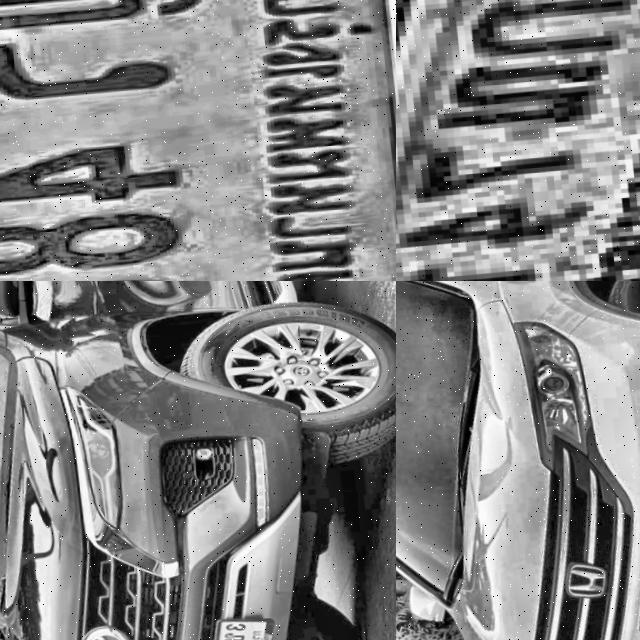license-plate: (0, 0, 396, 281), (396, 0, 640, 281), (619, 542, 640, 640), (193, 618, 273, 640)
